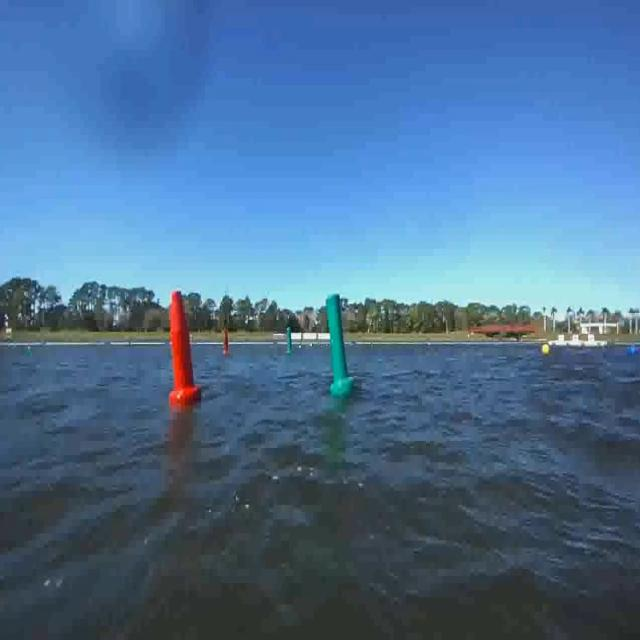blue-buoy: (626, 342, 639, 360)
green-column-buoy: (324, 291, 353, 396), (286, 327, 294, 355)
red-column-buoy: (168, 288, 201, 407), (222, 328, 231, 356)
yellow-buoy: (540, 342, 550, 358)
